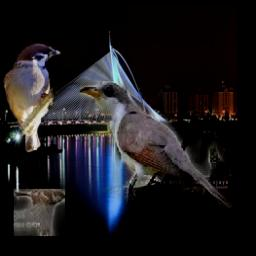Cuckoo: (80, 81, 232, 208)
Sparrow: (1, 42, 61, 152), (15, 189, 66, 236)
